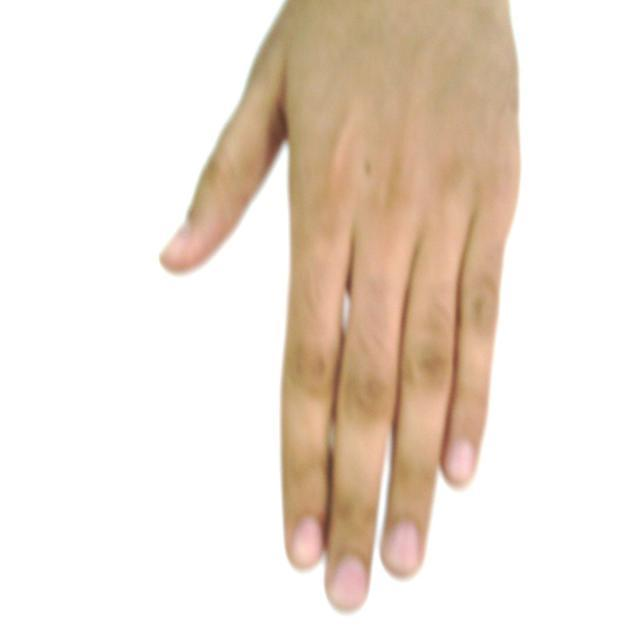Fingernail: (331, 557, 366, 611), (386, 522, 418, 575), (294, 519, 321, 566), (449, 442, 474, 481), (162, 224, 189, 254)
